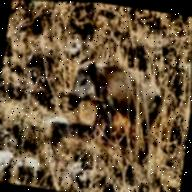boar: (52, 45, 177, 150)
